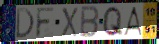A: (122, 6, 144, 37)
B: (79, 5, 100, 39)
D: (15, 8, 35, 40)
F: (35, 7, 56, 39)
Q: (101, 6, 124, 38)
X: (61, 7, 79, 38)
